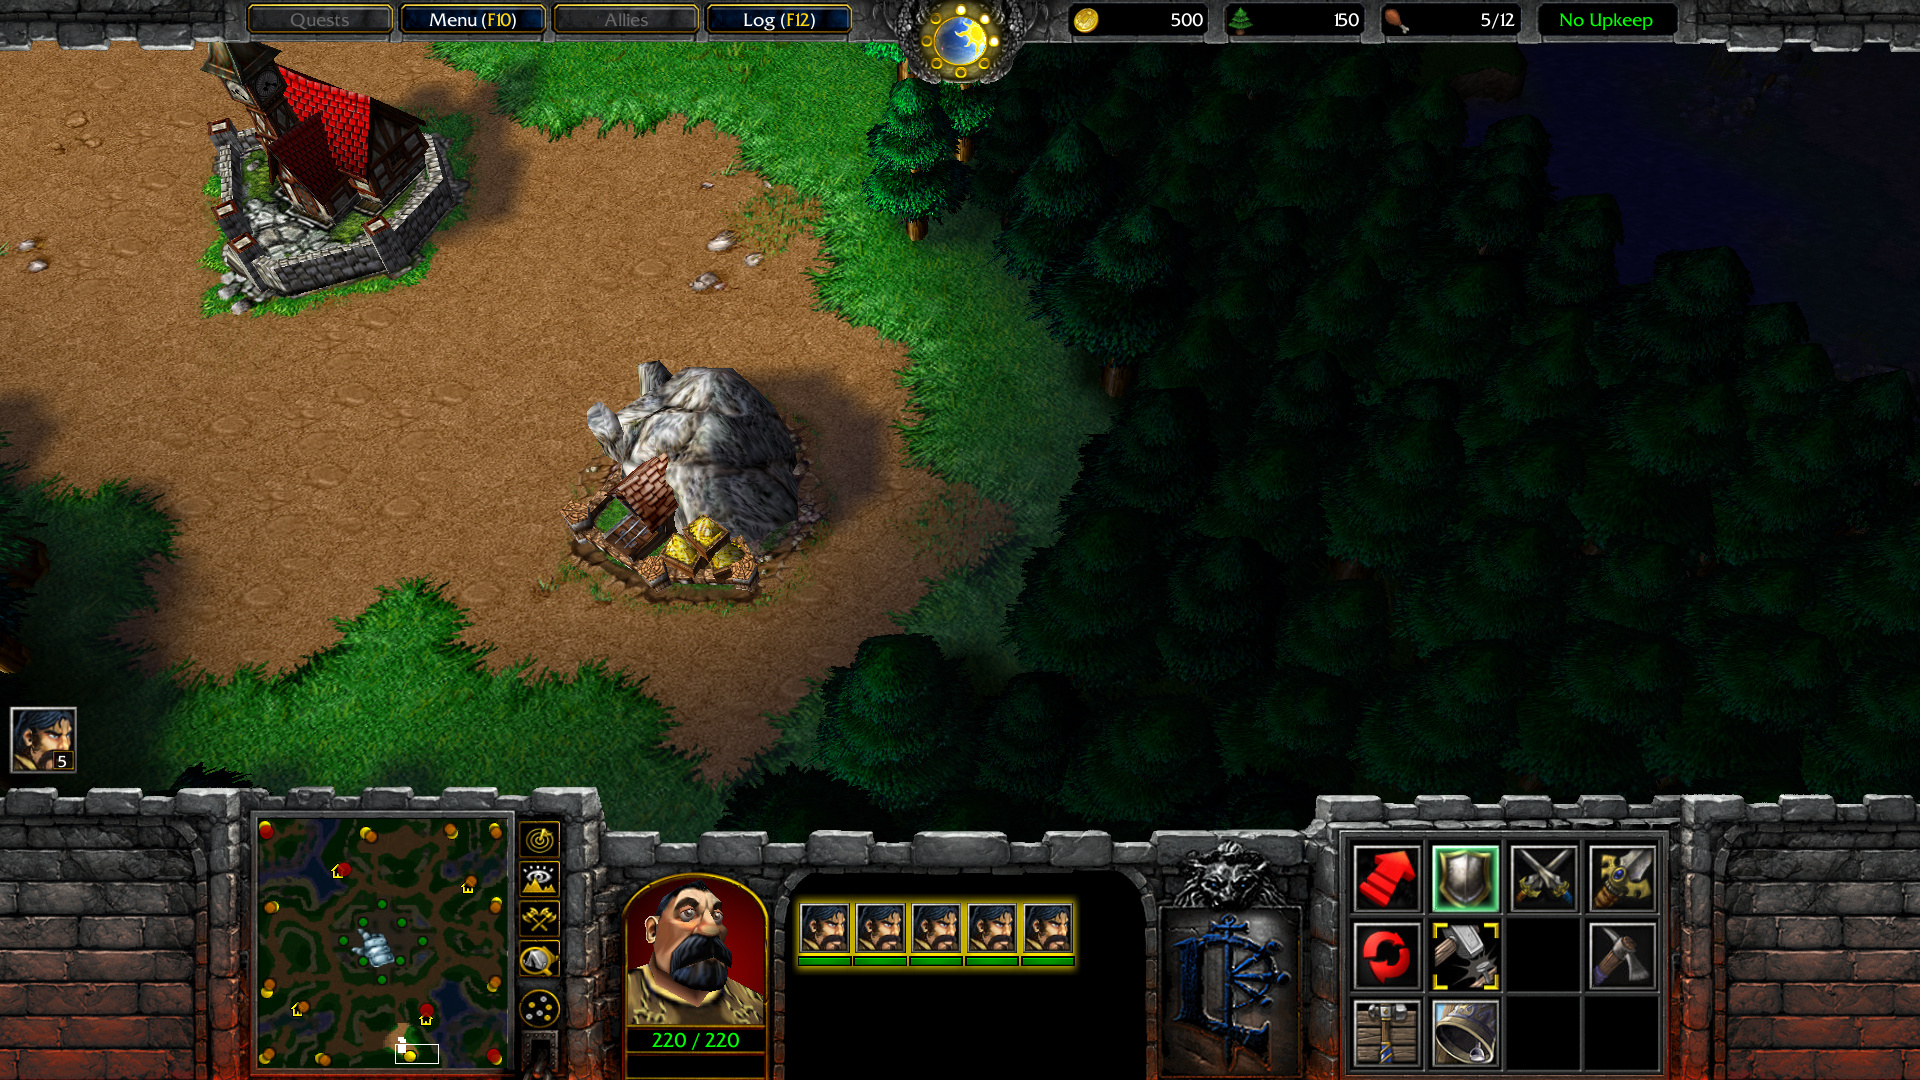Townhall: (192, 40, 480, 318)
